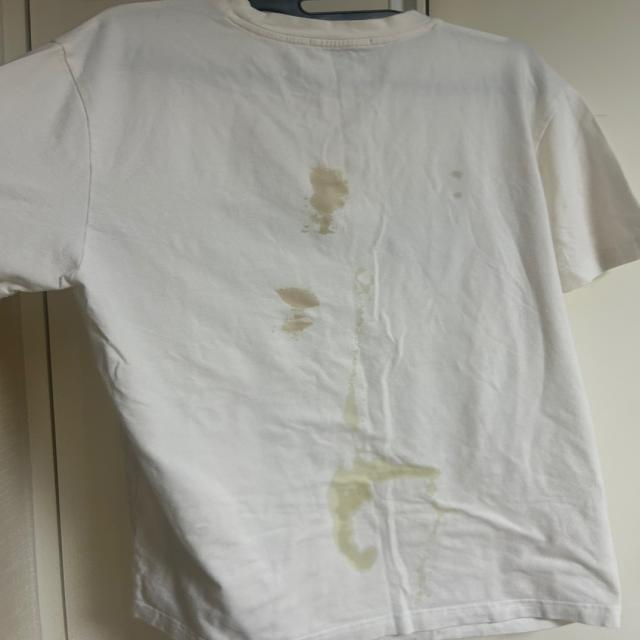stain: (316, 452, 449, 487), (298, 166, 359, 234), (326, 374, 370, 431), (276, 287, 322, 341), (448, 160, 480, 205), (342, 271, 380, 303)
